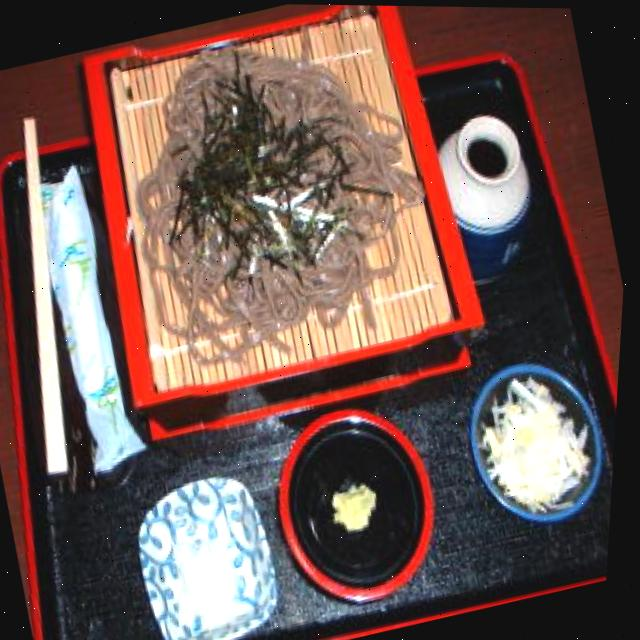面条主食: (31, 1, 516, 437)
